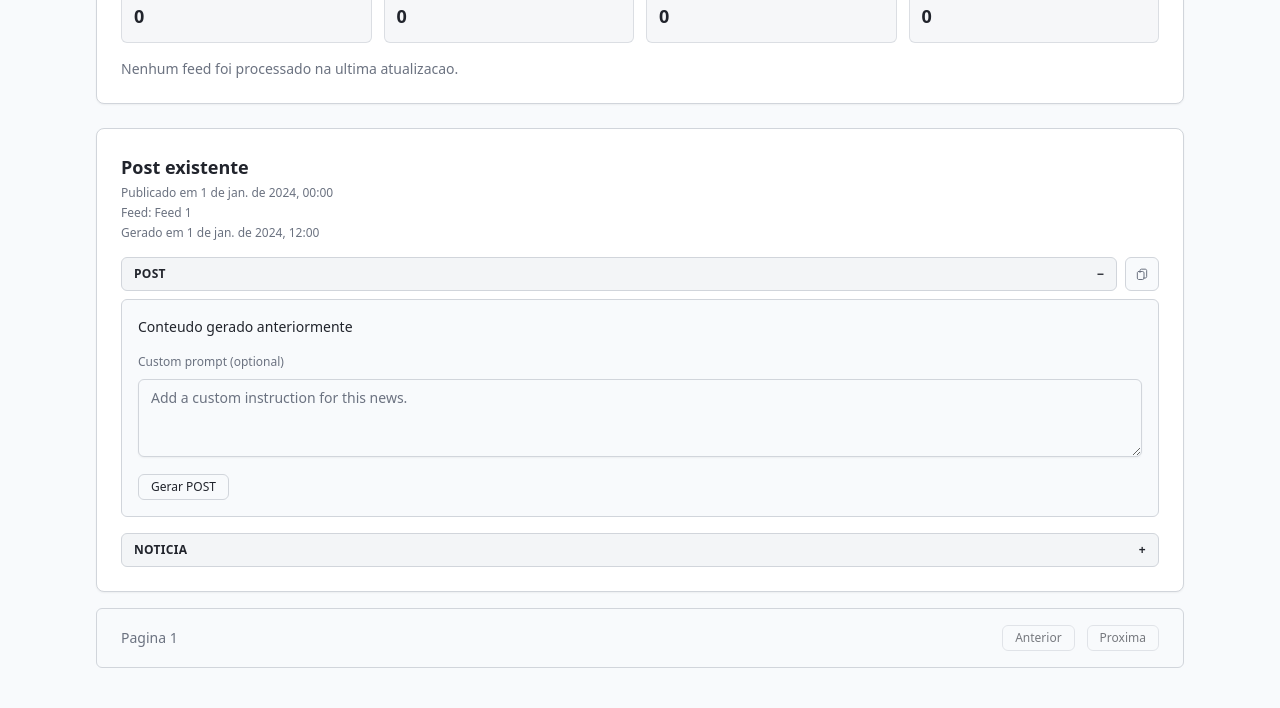
Test: PostsPage › keeps the custom prompt controls available after a post is generated
(page scrolled)
Type "Nova orientacao" into the text box with placeholder "Add a custom instruction for this news.". click: (640, 418)
box: [138,379,1142,457]
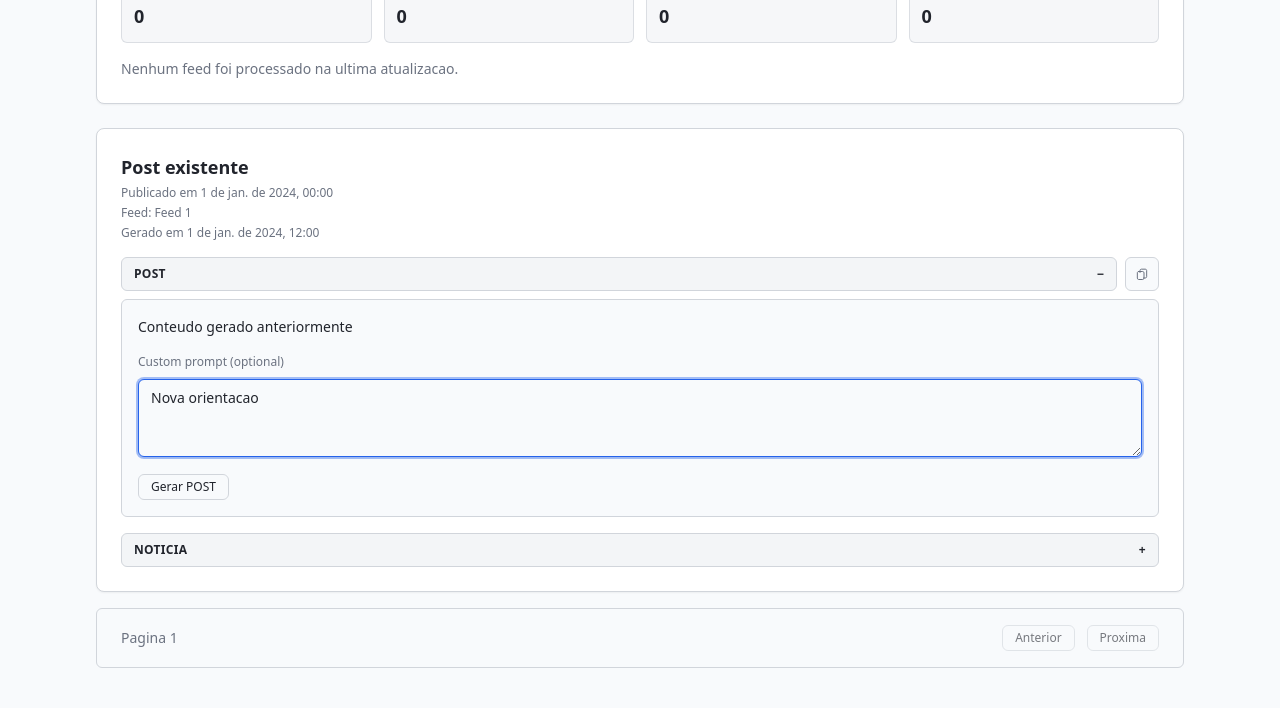
Click the button "Gerar POST". click: (183, 487)
box: [138,474,229,500]
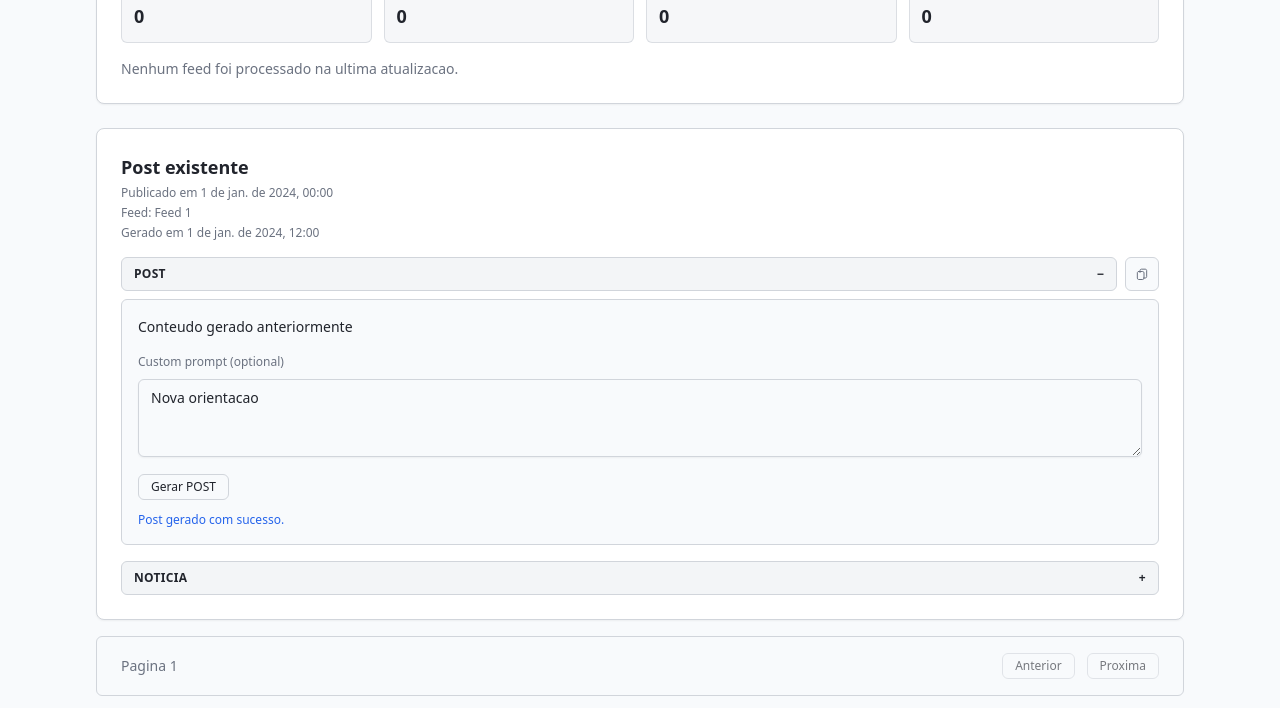
Now the text "Post gerado com sucesso." is shown, box [138,511,284,528]
